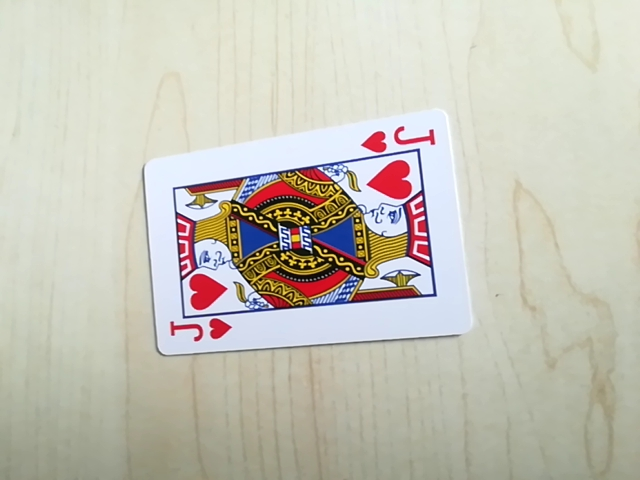hx j: (361, 123, 440, 157), (164, 315, 235, 351)
